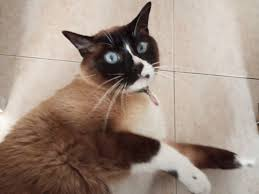Gato: (59, 2, 217, 193)
